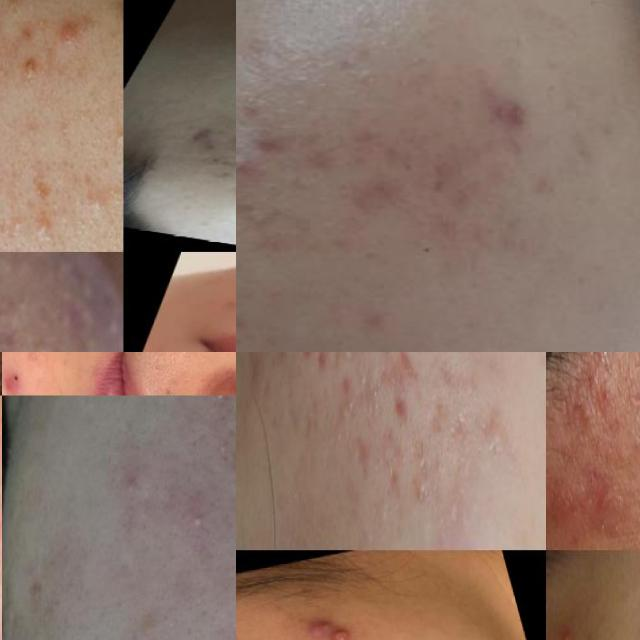acne_scars: (374, 352, 418, 399), (404, 413, 432, 466), (182, 122, 228, 152), (427, 381, 450, 438), (198, 148, 236, 177), (222, 124, 236, 153)
comedone: (547, 580, 587, 640), (31, 201, 71, 252), (236, 142, 277, 177), (188, 499, 214, 548), (150, 90, 194, 117), (334, 389, 360, 430), (197, 395, 236, 414), (108, 120, 124, 154), (356, 365, 370, 396), (340, 352, 354, 362)
papule: (480, 94, 541, 147), (0, 37, 56, 92), (50, 0, 101, 58), (388, 377, 414, 434), (120, 464, 144, 501)
pustule: (2, 368, 20, 396)
sebo-crystan-conglo: (294, 608, 337, 634), (330, 620, 369, 640)
